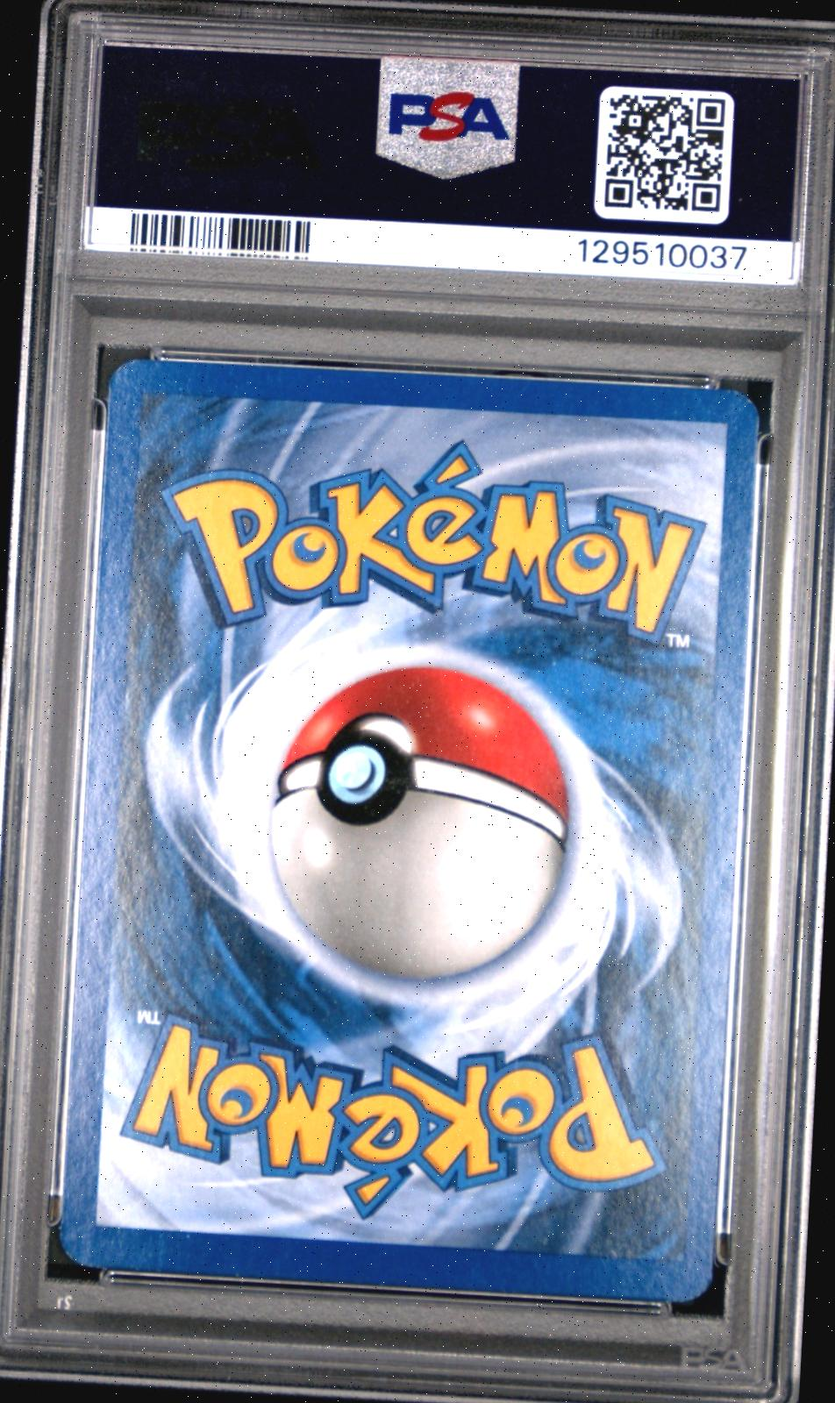card-2UtV: (57, 357, 761, 1303)
